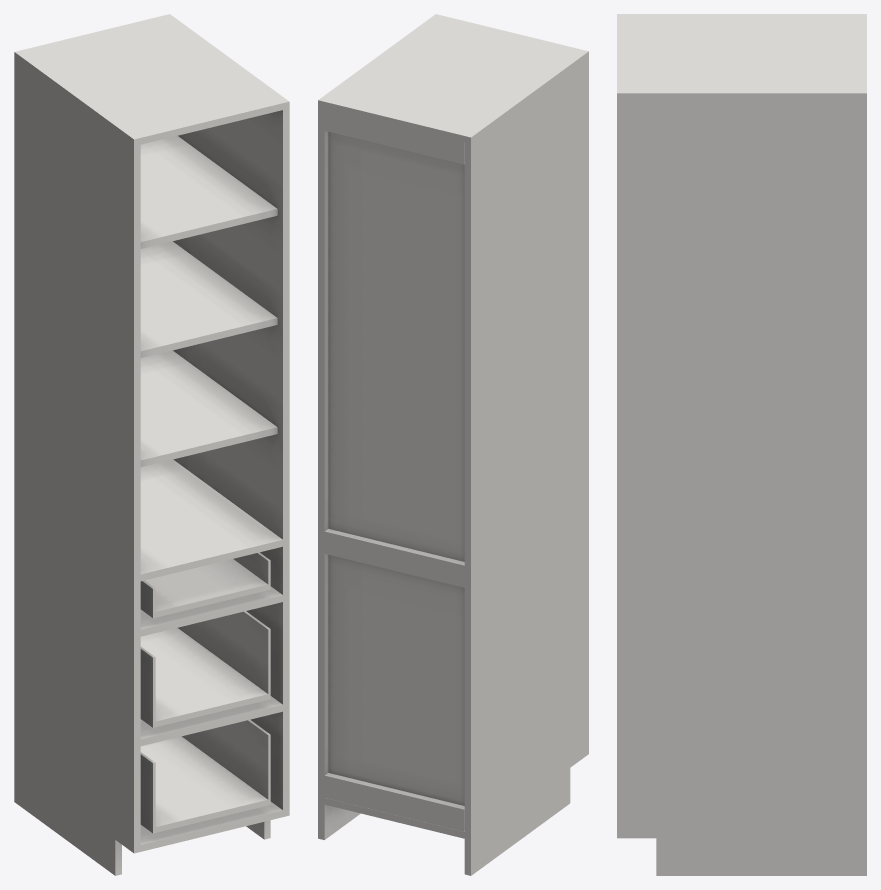
The model's file is tall-1-door-3-drawer-doors-off.glb.
3 renders of one model, left to right at view 1: azimuth 30°, elevation 25°; view 2: azimuth 150°, elevation 25°; view 3: azimuth 270°, elevation 25°, orthographic. The views are drawn at different scales.
Visible parts, largest first — view 1: part_0, part_10; view 2: part_0; view 3: part_0.
Boxes of the visible parts, x1=… form: part_0: x1=14, y1=14, x2=289, y2=875; part_10: x1=140, y1=552, x2=270, y2=833; part_0: x1=318, y1=14, x2=588, y2=875; part_0: x1=617, y1=14, x2=866, y2=875.
Bounding box in the file's own units: 0.4572 × 2.11 × 0.6097.
2 materials, 1 textured.
